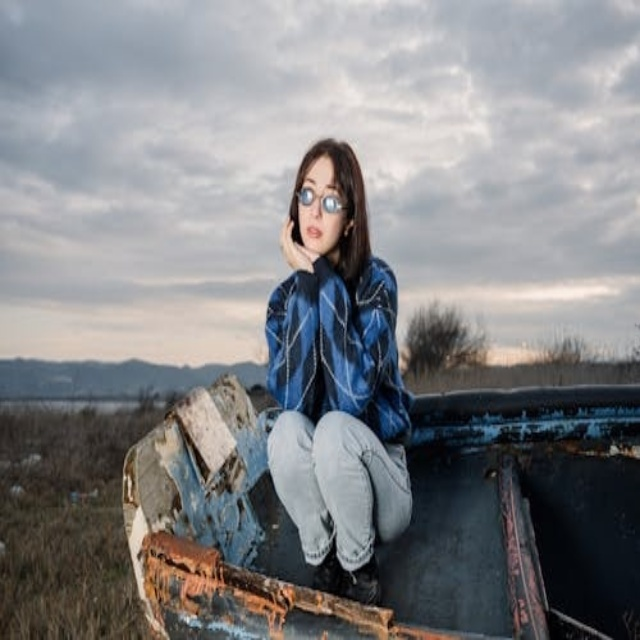Gafas: (296, 188, 349, 212)
Sin_mascara: (300, 219, 326, 248)
